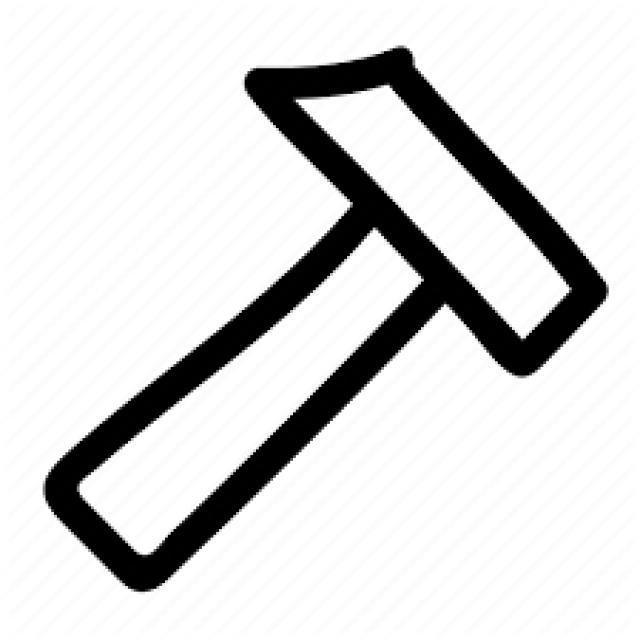Palu: (33, 46, 613, 584)
